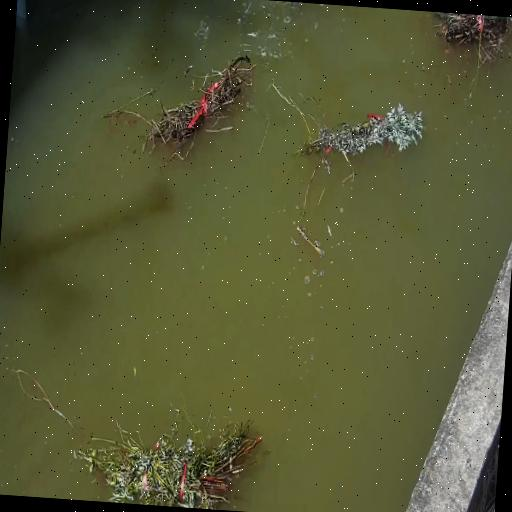twig: (67, 388, 257, 512), (296, 101, 434, 174), (144, 66, 254, 150), (432, 12, 512, 73)
